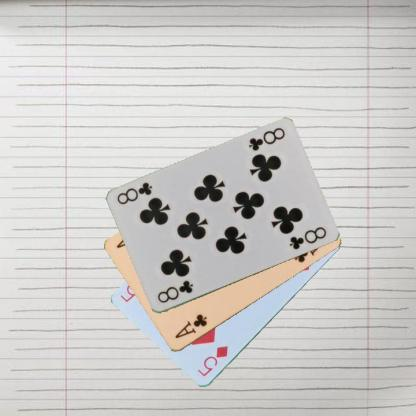5d: (195, 344, 229, 378)
8c: (245, 125, 286, 154), (154, 278, 194, 304)
Ac: (172, 312, 209, 340)
